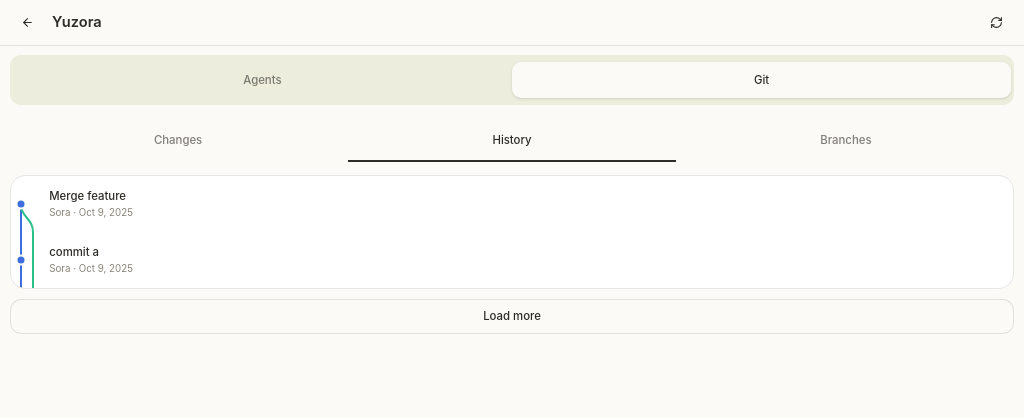
Git history › lays the lanes out over every page loaded so far
This screenshot has width=1024, height=418.
Expected: the text "Merge feature" is shown, [49,189,126,203]
Click the button "Load more": (512, 316) [10,298,1014,334]
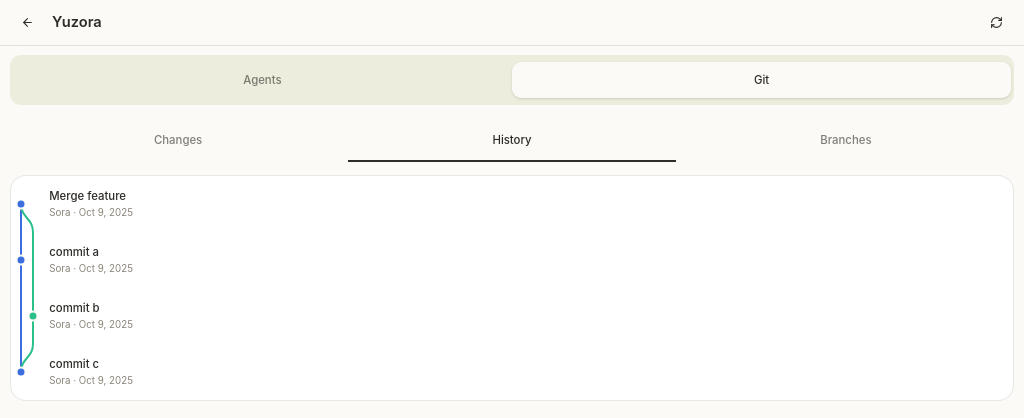
Expected: the text "commit b" is shown, [49,301,100,315]
Expected: the button "Load more" is gone
